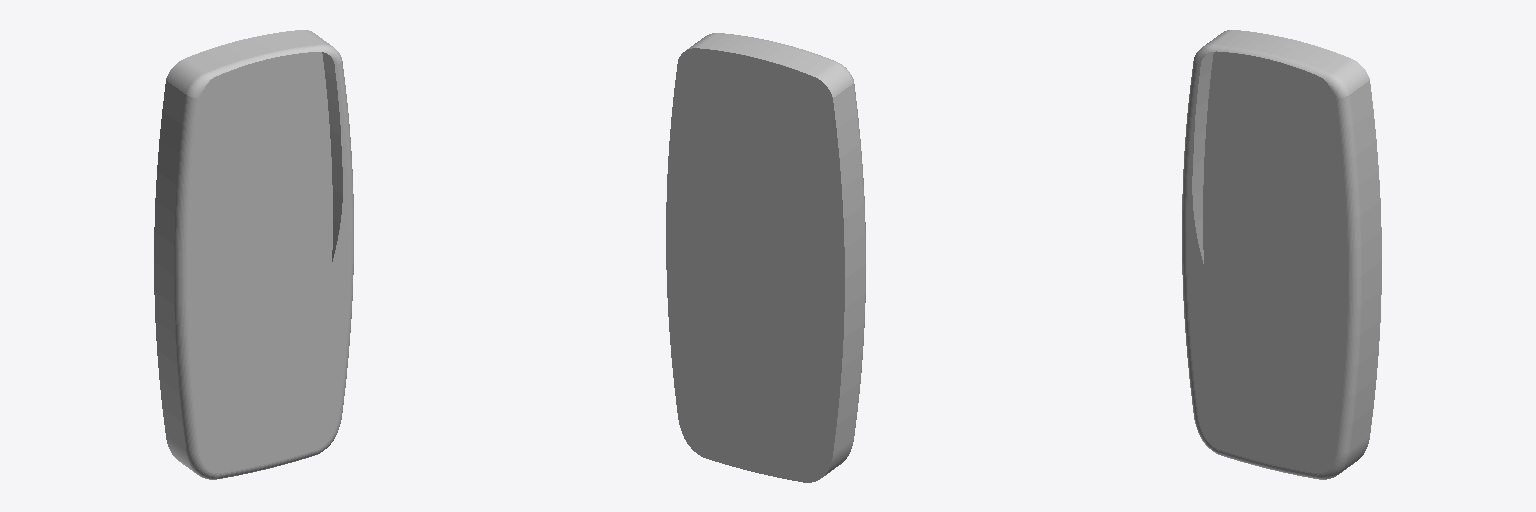
Rendered from original-1.obj.
The picture shows the model from 3 angles: view 1: azimuth 30°, elevation 25°; view 2: azimuth 150°, elevation 25°; view 3: azimuth 330°, elevation 25°; orthographic projection.
Visible parts, largest first — view 1: #ID3; view 2: #ID3; view 3: #ID3.
Part boxes in pixels (x1,y1,x2,y2): #ID3: (154, 30, 353, 479); #ID3: (666, 33, 865, 482); #ID3: (1182, 30, 1381, 479).
Bounding box in the file's own units: 0.8799 × 1.95 × 0.2135.